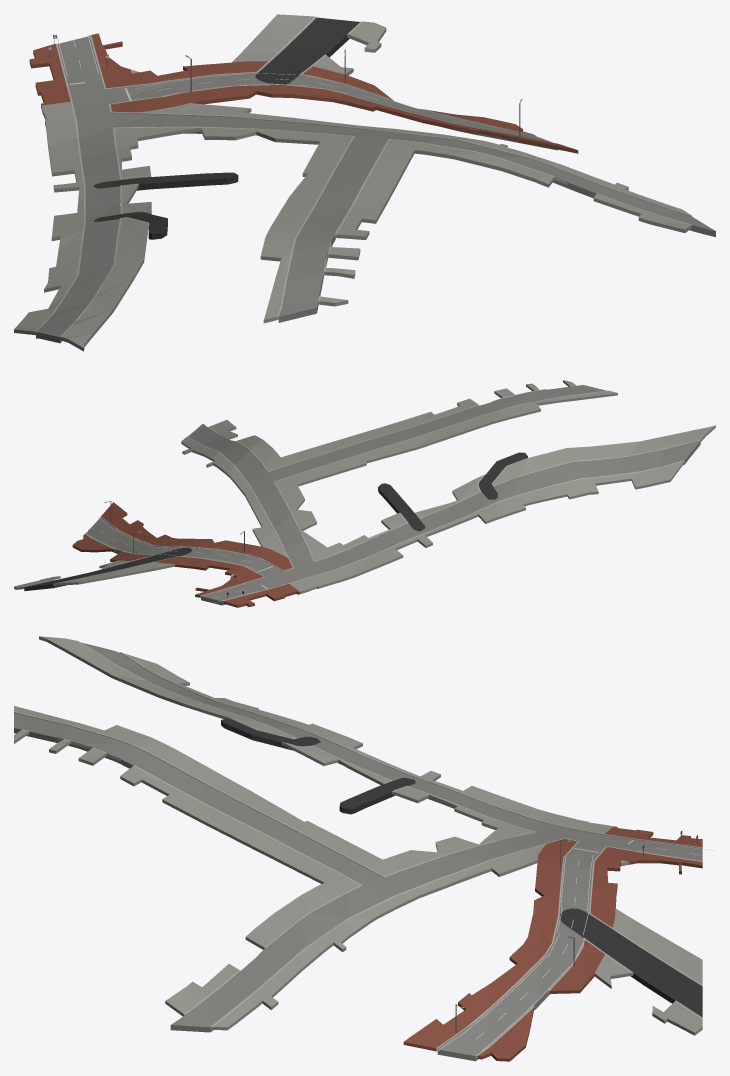
Rendered from 18-218877-118954.76fbd61f.glb.
3 renders of one model, top to bottom at view 1: azimuth 30°, elevation 25°; view 2: azimuth 150°, elevation 25°; view 3: azimuth 270°, elevation 25°, orthographic. The views are drawn at different scales.
Bounding box in the file's own units: 148 × 31.73 × 149.
